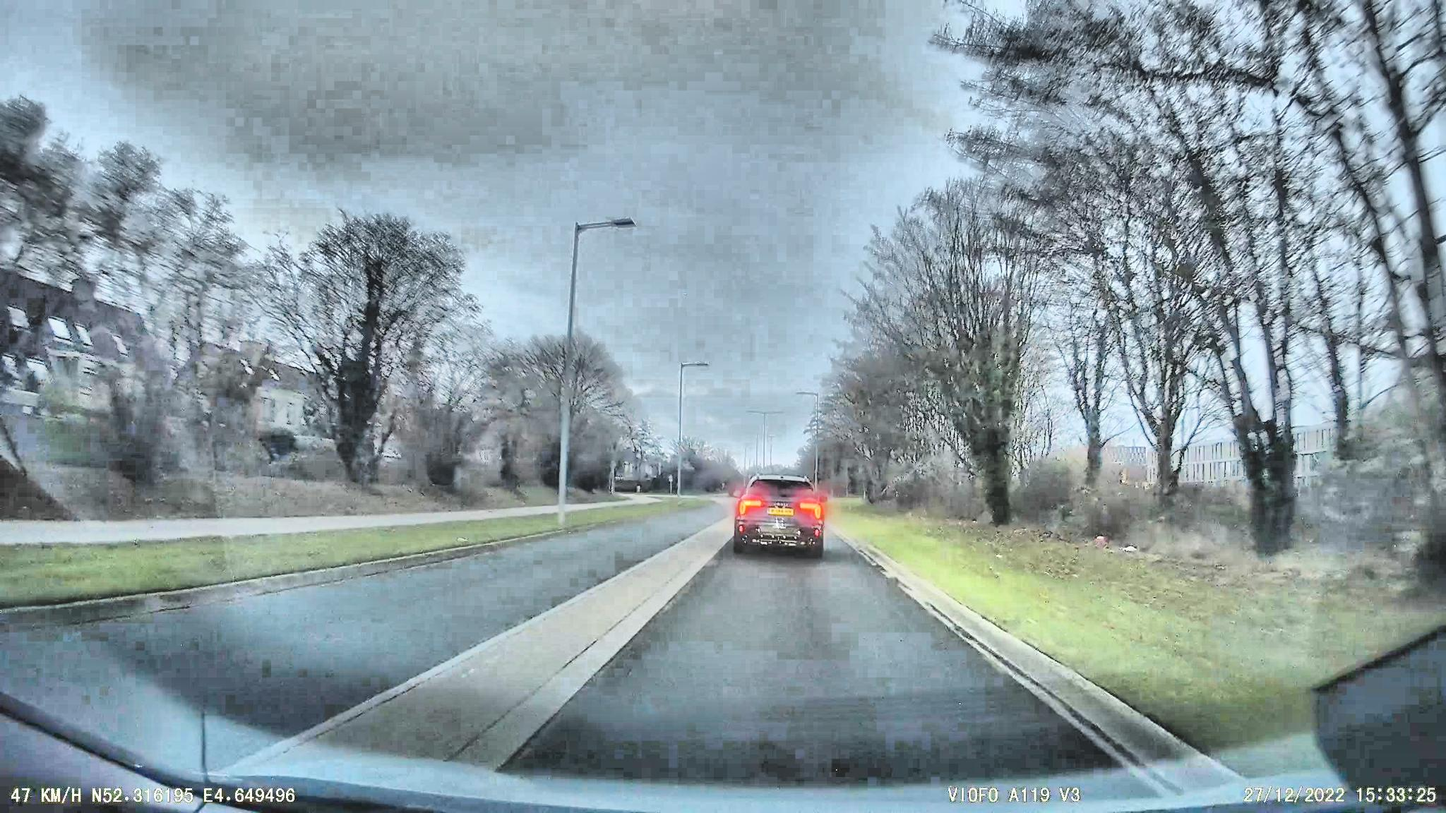Roads: (0, 516, 1255, 813)
